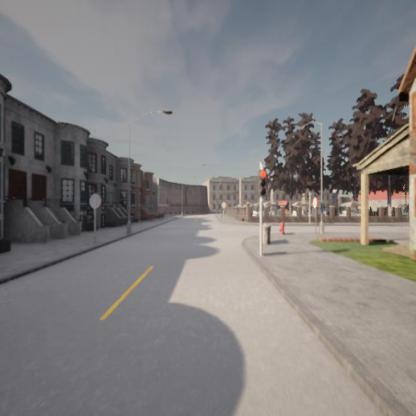traffic_light_red: (260, 170, 268, 195)
